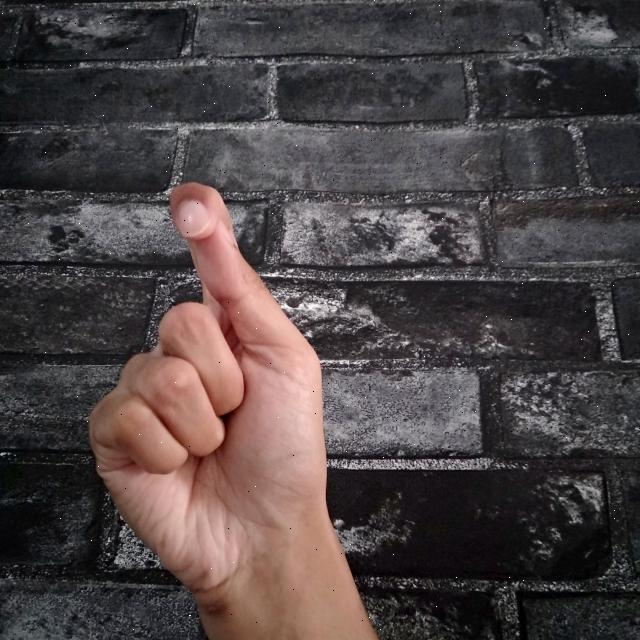T: (82, 176, 384, 640)
